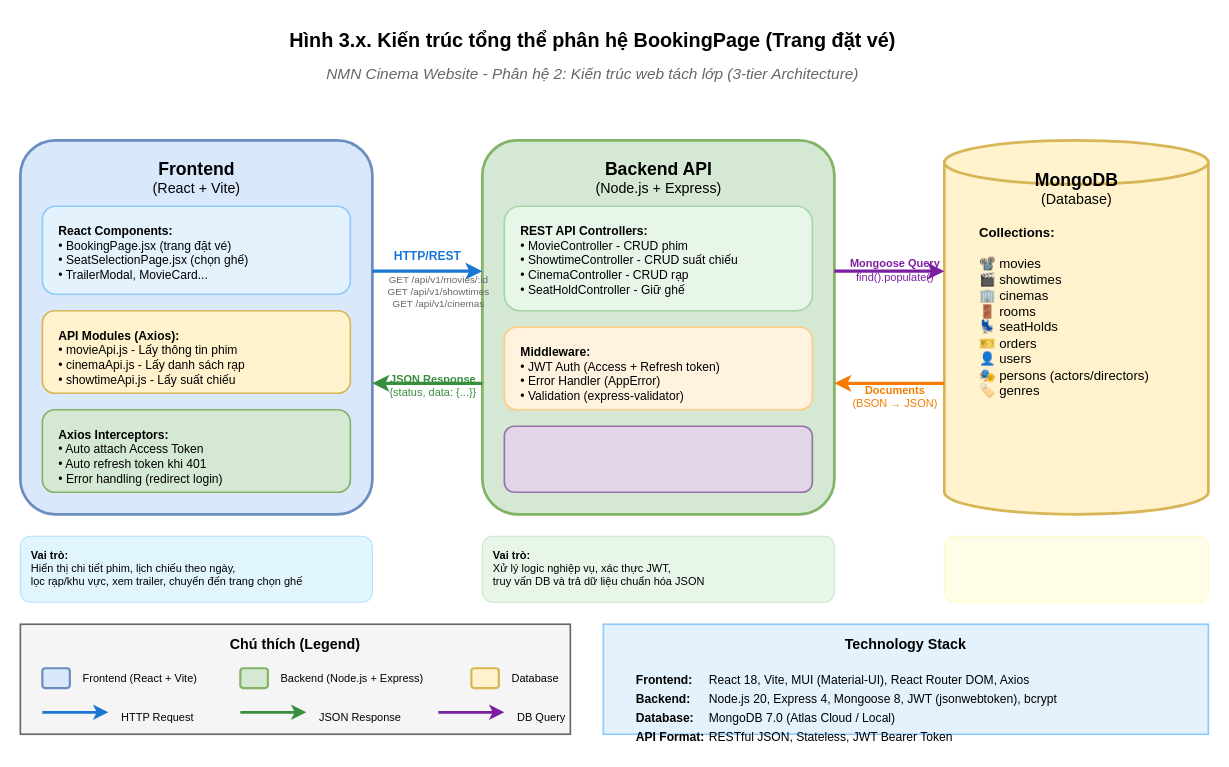
The diagram is 1229 pixels wide and 767 high, and some of its shapes have lost their labels. Here are the shapes that lost their labels. From the top down, the centre of each, then its label:
At [658,459]: "Mongoose ODM: Schema + Validation + Middleware + Population".
At [1075,568]: "Vai trò: Lưu trữ dữ liệu NoSQL (documents), hỗ trợ query phức tạp và aggregation".
